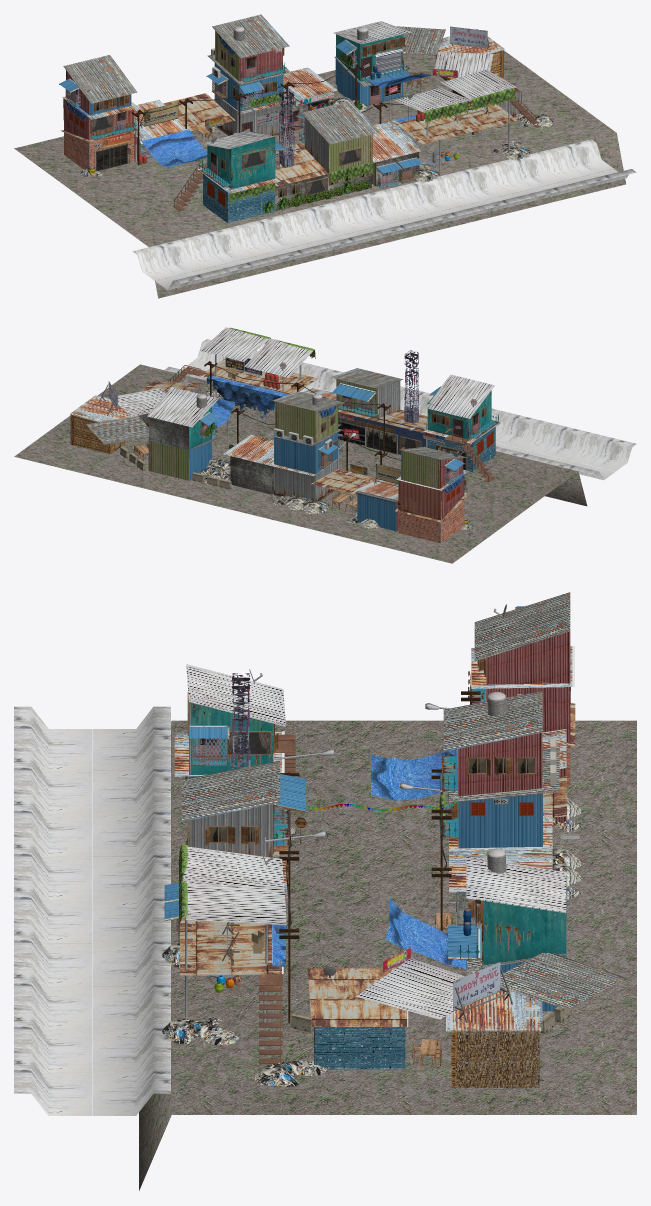
Rendered from Environment.fbx.
3 views of the same model, one above another, from view 1: azimuth 30°, elevation 25°; view 2: azimuth 150°, elevation 25°; view 3: azimuth 270°, elevation 25° (orthographic). The views are drawn at different scales.
Parts seen in each view (by area): view 1: pPlane13, polySurface23, polySurface30, polySurface26, sewage_Comp14, sewage_Comp17, sewage_Comp15, sewage_Comp16, sewage_Comp12, sewage_Comp19, sewage_Comp10, sewage_Comp13 (+51 smaller); view 2: pPlane13, polySurface27, sewage_Comp22, sewage_Comp20, Roof_Building_06, Building_Cover5, polySurface29, polySurface28, Front_Buidling_2, sewage_Comp9, Front_Building_09, Roof_Building_10 (+47 smaller); view 3: pPlane13, Front_Buidling_23, Roof_Building_07, Side_Building_016, polySurface30, Roof_Building_10, Roof_Building_06, polySurface26, Side_Building_5, Front_Buidling_20, polySurface23, polySurface28 (+44 smaller).
Boxes of the visible parts, box(x1,y1,x2,y2) form: pPlane13: box(14, 50, 625, 298); polySurface23: box(63, 55, 137, 103); polySurface30: box(301, 100, 378, 144); polySurface26: box(212, 14, 289, 58); sewage_Comp14: box(335, 189, 408, 231); sewage_Comp17: box(540, 139, 613, 181); sewage_Comp15: box(284, 202, 357, 243); sewage_Comp16: box(233, 214, 305, 256); sewage_Comp12: box(438, 164, 511, 206); sewage_Comp19: box(182, 227, 254, 268); sewage_Comp10: box(489, 152, 562, 193); sewage_Comp13: box(387, 177, 459, 218); pPlane13: box(14, 364, 587, 563); polySurface27: box(426, 374, 494, 418); sewage_Comp22: box(568, 432, 636, 471); sewage_Comp20: box(522, 421, 590, 459); Roof_Building_06: box(147, 387, 218, 427); Building_Cover5: box(206, 375, 288, 418); polySurface29: box(244, 338, 313, 377); polySurface28: box(200, 327, 269, 361); Front_Buidling_2: box(398, 480, 441, 520); sewage_Comp9: box(491, 409, 542, 448); Front_Building_09: box(148, 440, 188, 480); Roof_Building_10: box(86, 416, 148, 444); pPlane13: box(139, 720, 636, 1190); Front_Buidling_23: box(451, 1030, 539, 1087); Roof_Building_07: box(307, 968, 408, 1026); Side_Building_016: box(482, 897, 566, 965); polySurface30: box(181, 761, 280, 821); Roof_Building_10: box(500, 953, 626, 1009); Roof_Building_06: box(466, 855, 566, 912); polySurface26: box(443, 691, 542, 751); Side_Building_5: box(458, 789, 542, 848); Front_Buidling_20: box(314, 1027, 405, 1069); polySurface23: box(474, 592, 570, 661); polySurface28: box(185, 883, 286, 925).
Size of the model in its own units: 51.94 by 15.37 by 33.48.
